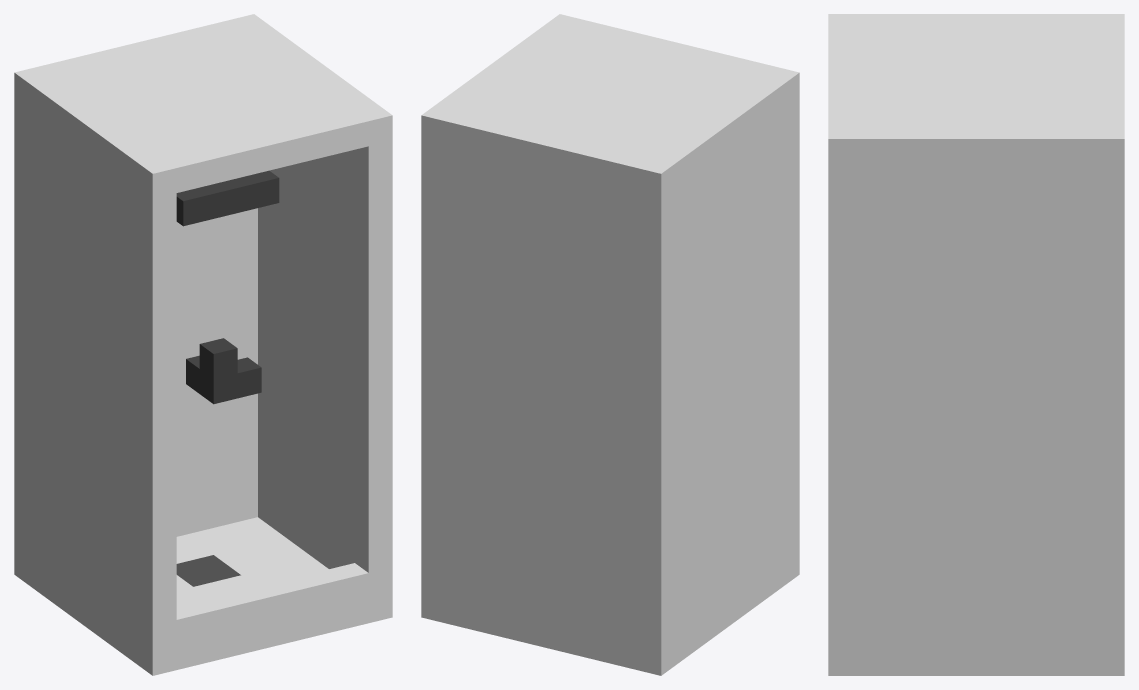
File: shower_simple.obj
3 views of the same model, side by side, from view 1: azimuth 30°, elevation 25°; view 2: azimuth 150°, elevation 25°; view 3: azimuth 270°, elevation 25° (orthographic). The views are drawn at different scales.
Parts seen in each view (by area): view 1: shower_simple; view 2: shower_simple; view 3: shower_simple.
Boxes of the visible parts, bbox=[...] form: shower_simple: bbox=[14, 14, 392, 675]; shower_simple: bbox=[421, 14, 799, 675]; shower_simple: bbox=[828, 14, 1124, 675].
Bounding box in the file's own units: 10 × 20 × 10.
1 material, 1 textured.
